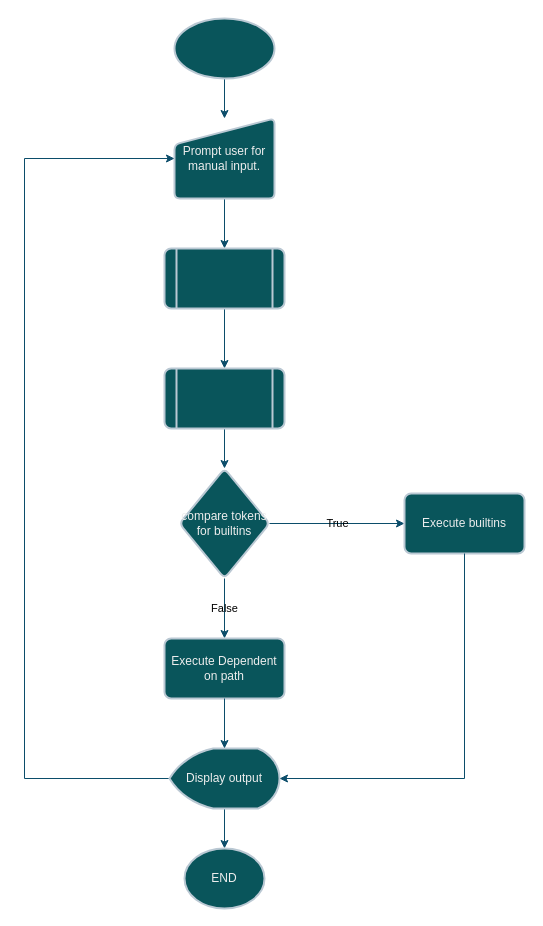
This 543x926 diagram has some shape labels left out. The shapes that lost their labels are listed below. From the top down, each one's centre as x and y in pixels, then its label:
At point (224, 48): "Start".
At point (224, 278): "getline and store in buffer".
At point (224, 398): "tokenize input".
